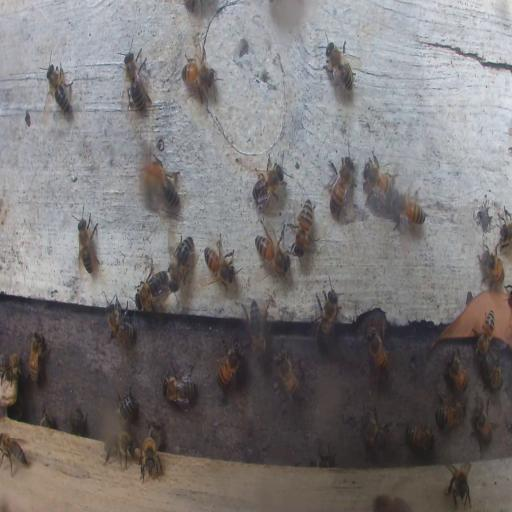bee: (251, 156, 289, 210), (326, 152, 356, 220), (313, 280, 342, 347), (182, 51, 217, 104), (363, 151, 396, 207), (323, 40, 356, 95), (255, 228, 290, 278), (43, 60, 74, 116), (204, 236, 236, 290), (122, 50, 149, 114), (141, 155, 170, 214), (359, 405, 391, 458), (216, 336, 244, 394), (167, 233, 195, 289), (272, 347, 301, 401), (76, 210, 99, 276), (471, 394, 496, 453), (393, 187, 426, 229), (136, 267, 169, 309), (106, 298, 136, 344), (244, 298, 266, 359), (446, 461, 473, 507), (163, 368, 195, 405), (293, 197, 313, 256), (104, 430, 134, 469), (0, 434, 27, 476), (478, 248, 506, 288), (366, 325, 388, 372), (1, 352, 21, 402), (446, 351, 468, 394), (28, 330, 46, 382), (476, 311, 495, 359), (404, 423, 434, 453), (138, 436, 160, 476), (436, 401, 466, 430), (376, 492, 409, 512), (116, 388, 135, 422), (500, 210, 512, 252), (488, 355, 502, 390), (69, 408, 85, 434), (316, 444, 333, 467), (147, 421, 163, 444), (39, 407, 55, 427)
